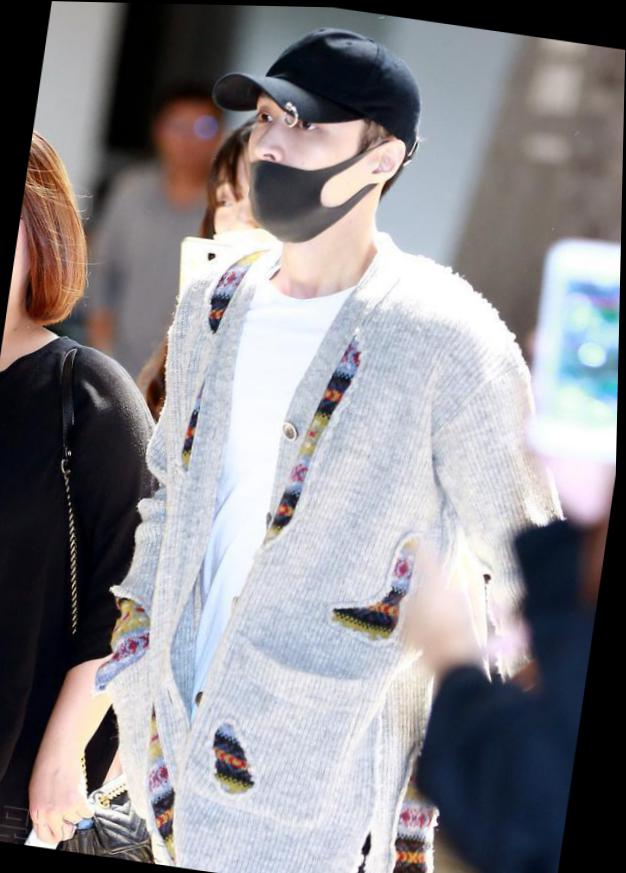WRONG: (239, 89, 367, 247)
